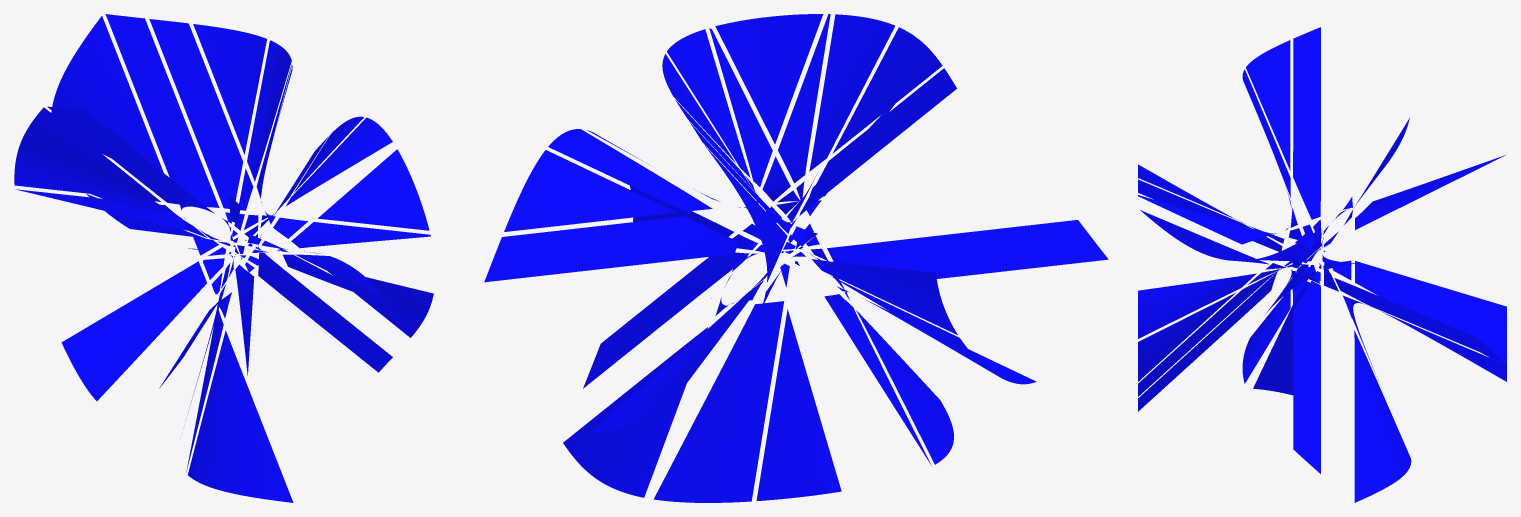
Rendered from clebsch-all-lines-removed-final-only-double-rem.glb.
3 renders of one model, left to right at view 1: azimuth 30°, elevation 25°; view 2: azimuth 150°, elevation 25°; view 3: azimuth 270°, elevation 25°, orthographic. The views are drawn at different scales.
Visible parts, largest first — view 1: Clebsch_Doub_Hyp_rem.041, Clebsch_Doub_Hyp_rem.105, Clebsch_Doub_Hyp_rem.115, Clebsch_Doub_Hyp_rem.121, Clebsch_Doub_Hyp_rem.113, Clebsch_Doub_Hyp_rem.081, Clebsch_Doub_Hyp_rem.116, Clebsch_Doub_Hyp_rem.084, Clebsch_Doub_Hyp_rem.057, Clebsch_Doub_Hyp_rem.114, Clebsch_Doub_Hyp_rem.117, Clebsch_Doub_Hyp_rem.083 (+9 smaller); view 2: Clebsch_Doub_Hyp_rem.094, Clebsch_Doub_Hyp_rem.061, Clebsch_Doub_Hyp_rem.029, Clebsch_Doub_Hyp_rem.096, Clebsch_Doub_Hyp_rem.118, Clebsch_Doub_Hyp_rem.087, Clebsch_Doub_Hyp_rem.091, Clebsch_Doub_Hyp_rem.119, Clebsch_Doub_Hyp_rem.055, Clebsch_Doub_Hyp_rem.080, Clebsch_Doub_Hyp_rem.089, Clebsch_Doub_Hyp_rem.120 (+13 smaller); view 3: Clebsch_Doub_Hyp_rem.089, Clebsch_Doub_Hyp_rem.091, Clebsch_Doub_Hyp_rem.080, Clebsch_Doub_Hyp_rem.055, Clebsch_Doub_Hyp_rem.043, Clebsch_Doub_Hyp_rem.120, Clebsch_Doub_Hyp_rem.060, Clebsch_Doub_Hyp_rem.044, Clebsch_Doub_Hyp_rem.042, Clebsch_Doub_Hyp_rem.036, Clebsch_Doub_Hyp_rem.103, Clebsch_Doub_Hyp_rem.033 (+9 smaller).
Part boxes in pixels (left/top/right/bottom): Clebsch_Doub_Hyp_rem.041: left=188, top=330, right=293, bottom=502; Clebsch_Doub_Hyp_rem.105: left=61, top=261, right=206, bottom=400; Clebsch_Doub_Hyp_rem.115: left=105, top=14, right=219, bottom=207; Clebsch_Doub_Hyp_rem.121: left=14, top=107, right=160, bottom=201; Clebsch_Doub_Hyp_rem.113: left=51, top=16, right=163, bottom=172; Clebsch_Doub_Hyp_rem.081: left=149, top=19, right=242, bottom=208; Clebsch_Doub_Hyp_rem.116: left=193, top=24, right=266, bottom=154; Clebsch_Doub_Hyp_rem.084: left=318, top=149, right=429, bottom=230; Clebsch_Doub_Hyp_rem.057: left=258, top=253, right=392, bottom=372; Clebsch_Doub_Hyp_rem.114: left=47, top=106, right=214, bottom=213; Clebsch_Doub_Hyp_rem.117: left=247, top=40, right=291, bottom=181; Clebsch_Doub_Hyp_rem.083: left=286, top=117, right=392, bottom=205; Clebsch_Doub_Hyp_rem.094: left=653, top=301, right=784, bottom=502; Clebsch_Doub_Hyp_rem.061: left=484, top=216, right=738, bottom=282; Clebsch_Doub_Hyp_rem.029: left=827, top=220, right=1108, bottom=278; Clebsch_Doub_Hyp_rem.096: left=756, top=309, right=841, bottom=500; Clebsch_Doub_Hyp_rem.118: left=715, top=14, right=823, bottom=143; Clebsch_Doub_Hyp_rem.087: left=504, top=150, right=676, bottom=231; Clebsch_Doub_Hyp_rem.091: left=563, top=327, right=707, bottom=497; Clebsch_Doub_Hyp_rem.119: left=809, top=14, right=894, bottom=171; Clebsch_Doub_Hyp_rem.055: left=583, top=252, right=749, bottom=388; Clebsch_Doub_Hyp_rem.080: left=799, top=68, right=956, bottom=215; Clebsch_Doub_Hyp_rem.089: left=591, top=280, right=763, bottom=432; Clebsch_Doub_Hyp_rem.120: left=832, top=27, right=942, bottom=153; Clebsch_Doub_Hyp_rem.089: left=1355, top=261, right=1506, bottom=364; Clebsch_Doub_Hyp_rem.091: left=1354, top=330, right=1411, bottom=502; Clebsch_Doub_Hyp_rem.080: left=1293, top=27, right=1320, bottom=219; Clebsch_Doub_Hyp_rem.055: left=1293, top=281, right=1320, bottom=473; Clebsch_Doub_Hyp_rem.043: left=1138, top=273, right=1256, bottom=338; Clebsch_Doub_Hyp_rem.120: left=1246, top=40, right=1290, bottom=170; Clebsch_Doub_Hyp_rem.060: left=1334, top=278, right=1504, bottom=362; Clebsch_Doub_Hyp_rem.044: left=1138, top=292, right=1236, bottom=381; Clebsch_Doub_Hyp_rem.042: left=1253, top=281, right=1320, bottom=395; Clebsch_Doub_Hyp_rem.036: left=1138, top=271, right=1277, bottom=411; Clebsch_Doub_Hyp_rem.103: left=1355, top=155, right=1505, bottom=229; Clebsch_Doub_Hyp_rem.033: left=1138, top=271, right=1277, bottom=396.
Size of the model in its own units: 4 by 4 by 4.
